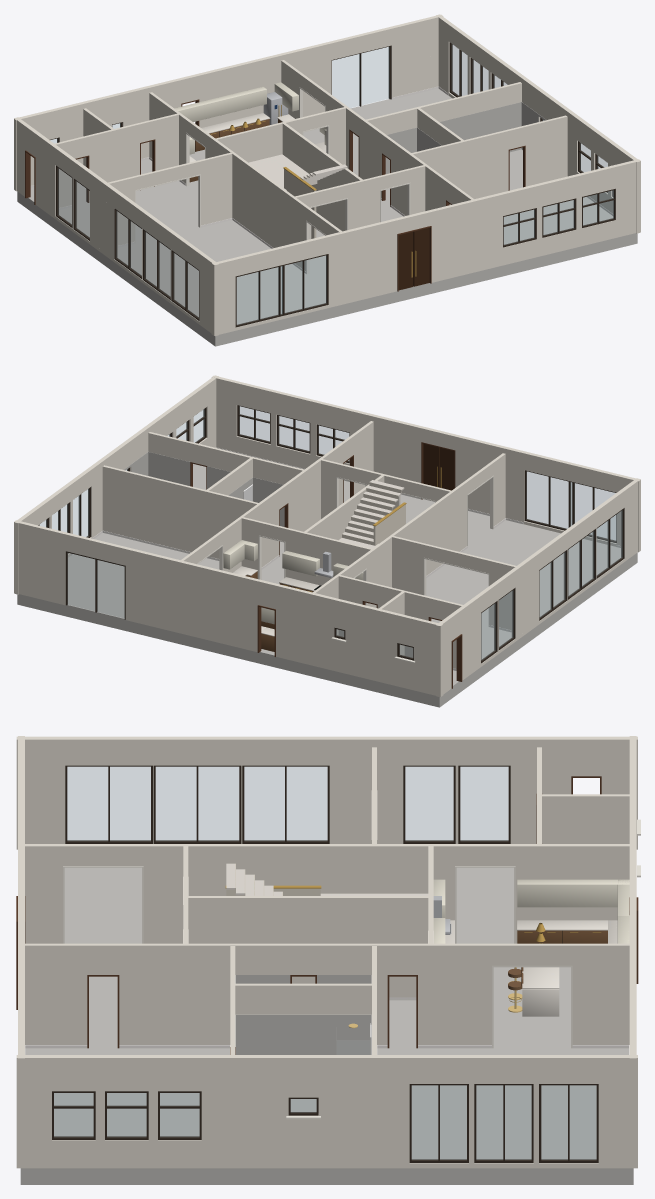
The model's file is int_est_S2_0.glb.
The picture shows the model from 3 angles, top to bottom: view 1: azimuth 30°, elevation 25°; view 2: azimuth 150°, elevation 25°; view 3: azimuth 270°, elevation 25°; orthographic projection. The views are drawn at different scales.
Parts seen in each view (by area): view 1: ROOM, WALL_0, WALL_10, WALL_5, WALL_13, WALL_12, WALL_1, WALL_2, WALL_3, WALL_9, WALL_6, WALL_7 (+4 smaller); view 2: WALL_10, ROOM, WALL_0, WALL_5, WALL_4, WALL_13, WALL_1, WALL_2, WALL_3, WALL_7, WALL_12, WALL_9 (+3 smaller); view 3: WALL_13, ROOM, WALL_5, WALL_2, WALL_1, WALL_8, WALL_3, WALL_11, WALL_14, WALL_10, WALL_0, WALL_12.
Boxes of the visible parts, x1,y1,x2,y2 form: ROOM: [17, 82, 637, 346]; WALL_0: [211, 159, 640, 335]; WALL_10: [14, 14, 443, 191]; WALL_5: [14, 117, 218, 335]; WALL_13: [436, 14, 640, 233]; WALL_12: [411, 115, 567, 204]; WALL_1: [122, 92, 341, 273]; WALL_2: [281, 60, 473, 215]; WALL_3: [90, 152, 232, 258]; WALL_9: [54, 113, 178, 207]; WALL_6: [295, 165, 425, 259]; WALL_7: [215, 107, 345, 164]; WALL_10: [14, 520, 443, 696]; ROOM: [17, 447, 637, 707]; WALL_0: [211, 375, 640, 552]; WALL_5: [436, 478, 640, 696]; WALL_4: [102, 465, 258, 558]; WALL_13: [14, 375, 218, 594]; WALL_1: [276, 453, 505, 637]; WALL_2: [181, 421, 373, 572]; WALL_3: [392, 536, 539, 638]; WALL_7: [241, 517, 371, 585]; WALL_12: [148, 432, 304, 489]; WALL_9: [338, 575, 462, 668]; WALL_13: [16, 1055, 637, 1168]; ROOM: [20, 863, 633, 1184]; WALL_5: [16, 736, 637, 849]; WALL_2: [25, 943, 629, 1048]; WALL_1: [25, 844, 629, 943]; WALL_8: [185, 896, 430, 997]; WALL_3: [329, 747, 403, 843]; WALL_11: [539, 794, 629, 843]; WALL_14: [235, 983, 371, 1014]; WALL_10: [629, 736, 640, 1168]; WALL_0: [16, 736, 25, 1168]; WALL_12: [230, 946, 235, 1054].
Size of the model in its own units: 22.81 by 4.2 by 18.62.
16 materials, 1 textured.
